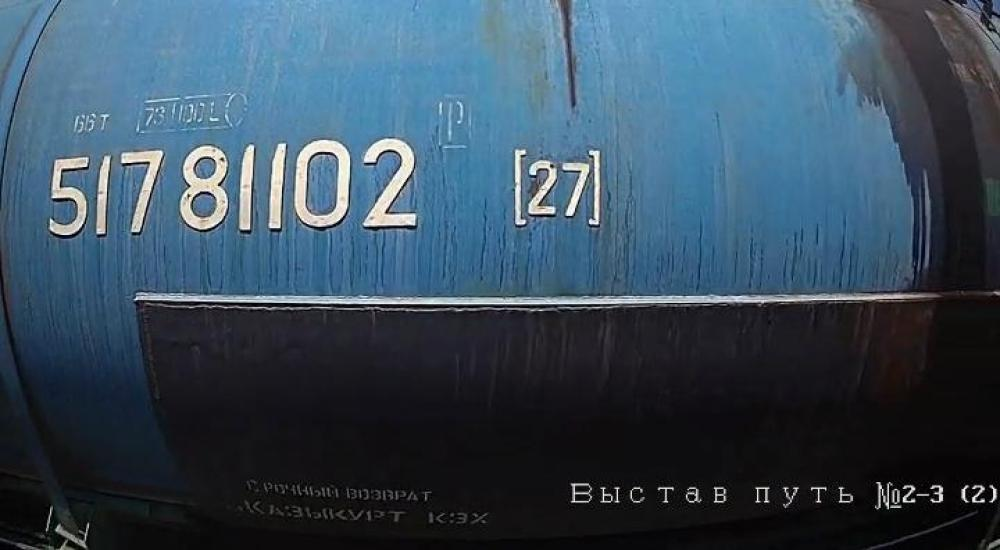Wagon-number: (42, 130, 427, 246)
